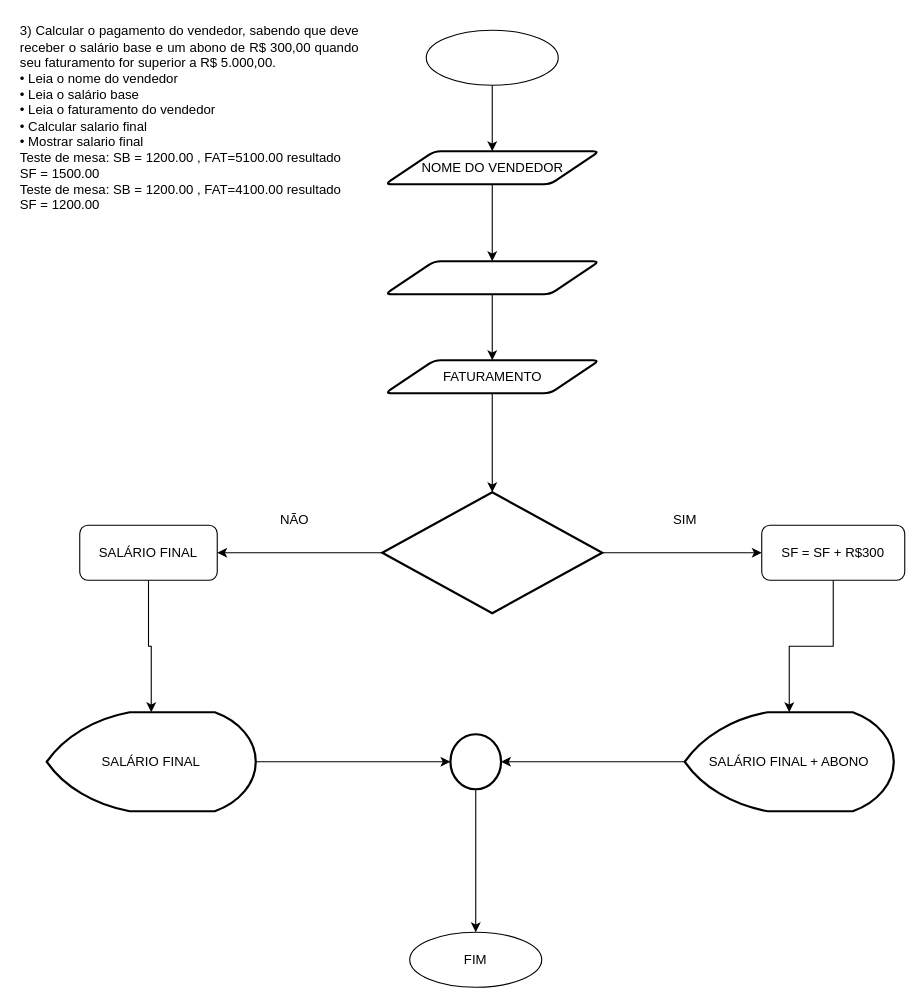
The diagram is 924 pixels wide and 1007 high, and some of its shapes have lost their labels. Each missing label, with the box of its shape:
FATURAMENTO > R$ 5000: (381, 491, 603, 614)
INÍCIO: (425, 29, 558, 85)
SALÁRIO BASE: (383, 260, 600, 295)
